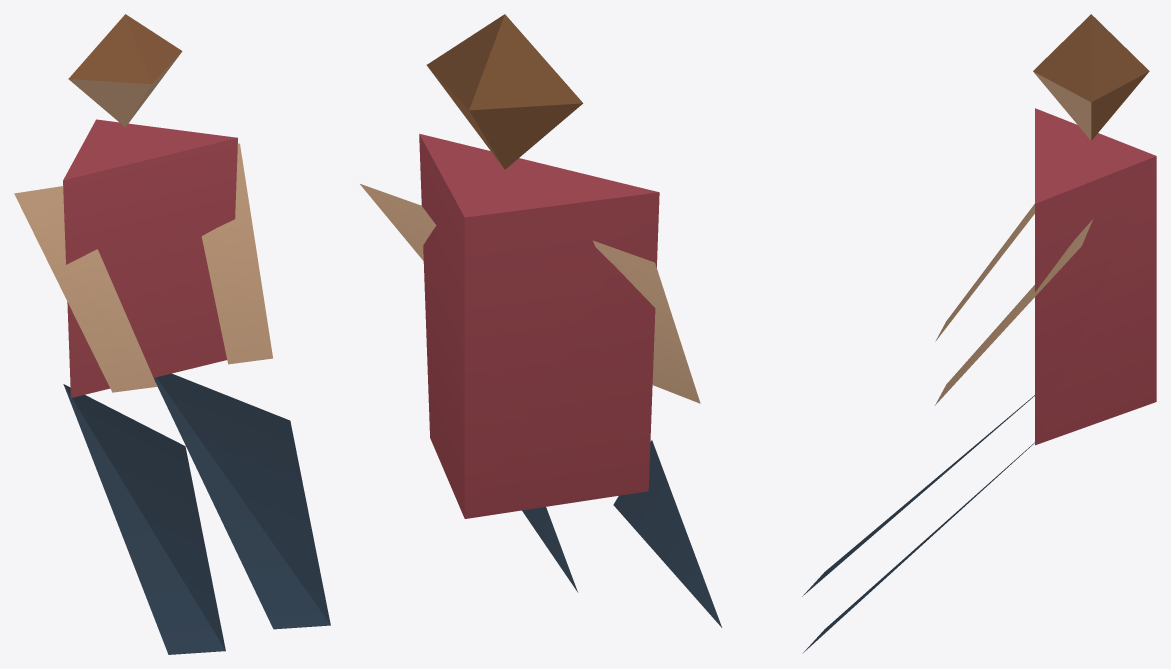
Rendered from fan-11.glb.
The picture shows the model from 3 angles, left to right: view 1: azimuth 30°, elevation 25°; view 2: azimuth 150°, elevation 25°; view 3: azimuth 270°, elevation 25°; orthographic projection. The views are drawn at different scales.
Visible parts, largest first — view 1: fan-11; view 2: fan-11; view 3: fan-11.
Part boxes in pixels (bbox=[...]): fan-11: bbox=[14, 14, 330, 654]; fan-11: bbox=[360, 14, 721, 627]; fan-11: bbox=[802, 14, 1156, 653].
Bounding box in the file's own units: 0.61 × 1.41 × 0.76.
